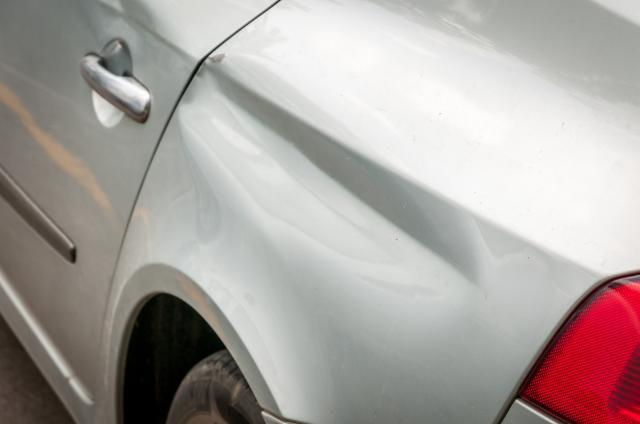dent: (178, 56, 470, 288)
